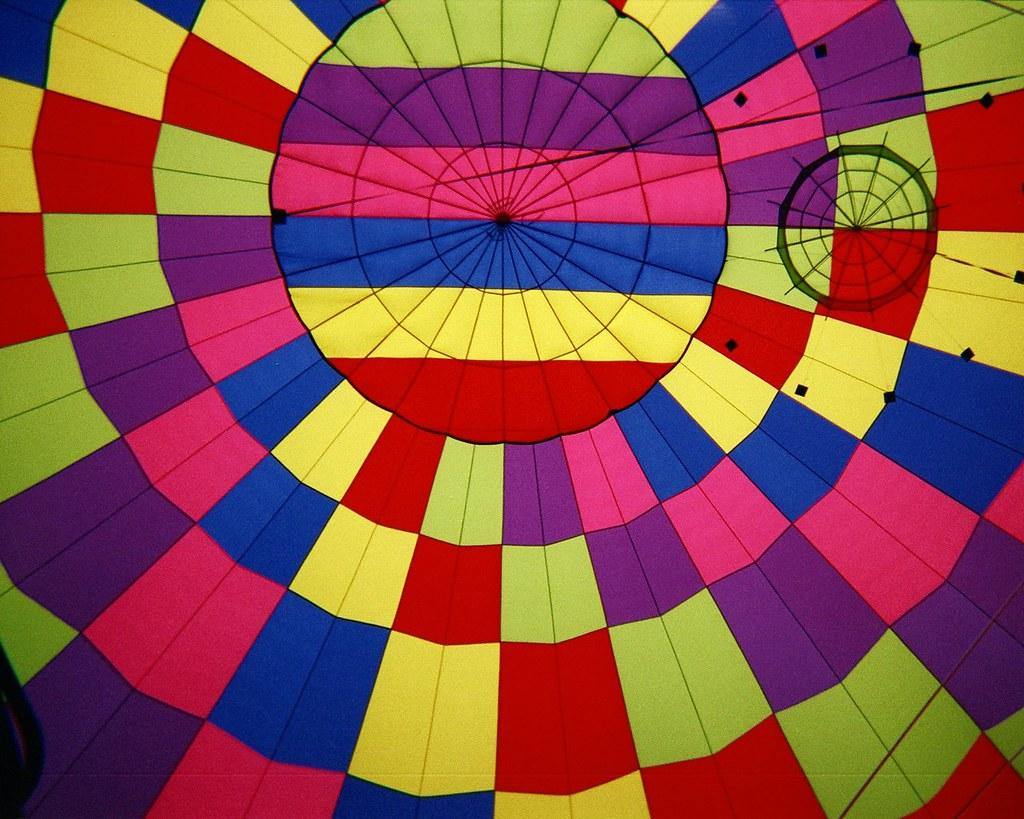balloon: (2, 1, 1022, 818)
